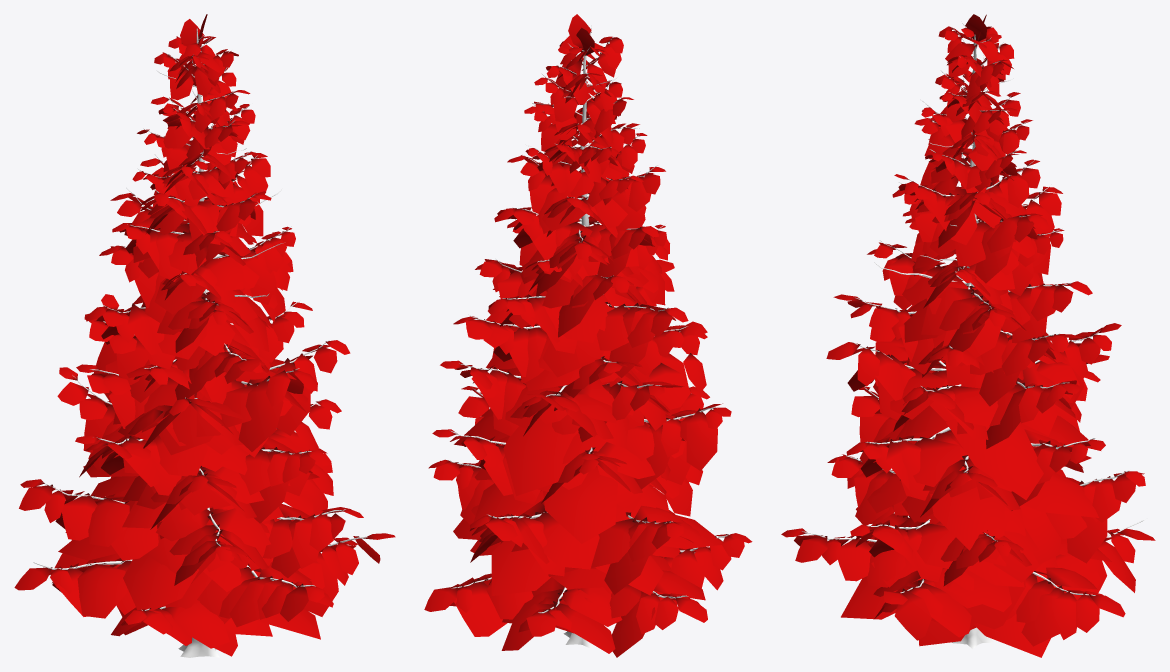
Rendered from Pine_Tree.FBX.
3 renders of one model, left to right at view 1: azimuth 30°, elevation 25°; view 2: azimuth 150°, elevation 25°; view 3: azimuth 270°, elevation 25°, orthographic.
Visible parts, largest first — view 1: Pine_Tree; view 2: Pine_Tree; view 3: Pine_Tree.
Boxes of the visible parts, bbox=[...] form: Pine_Tree: bbox=[14, 14, 395, 657]; Pine_Tree: bbox=[424, 14, 752, 657]; Pine_Tree: bbox=[781, 14, 1155, 657].
Size of the model in its own units: 618 by 662 by 1225.
